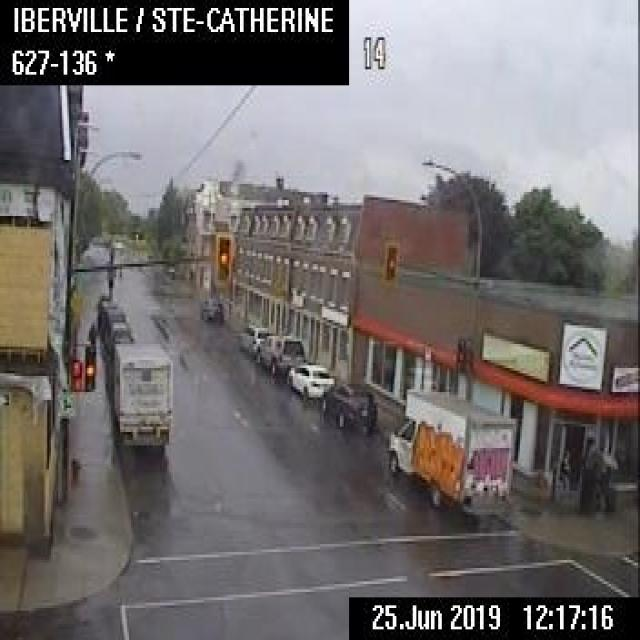pedestrian: (572, 434, 602, 511), (556, 446, 568, 496), (86, 318, 95, 342)
vehicle: (388, 387, 516, 517), (112, 340, 171, 455), (321, 380, 376, 433), (255, 332, 305, 374), (286, 360, 334, 399), (238, 322, 270, 353), (105, 320, 131, 350), (103, 306, 123, 340), (198, 294, 222, 318), (96, 298, 115, 326), (104, 352, 112, 394), (94, 292, 112, 309)
